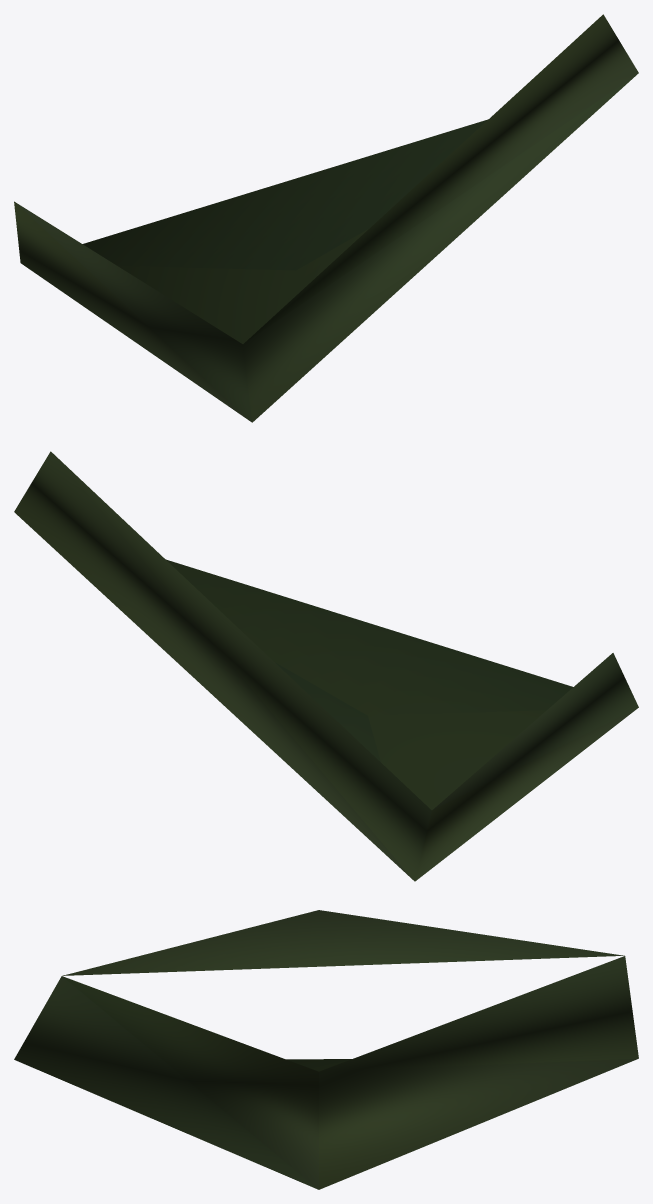
Rendered from leaf_v1.glb.
The picture shows the model from 3 angles, top to bottom: view 1: azimuth 30°, elevation 25°; view 2: azimuth 150°, elevation 25°; view 3: azimuth 270°, elevation 25°; orthographic projection. The views are drawn at different scales.
Bounding box in the file's own units: 1 × 0.4062 × 0.7549.
